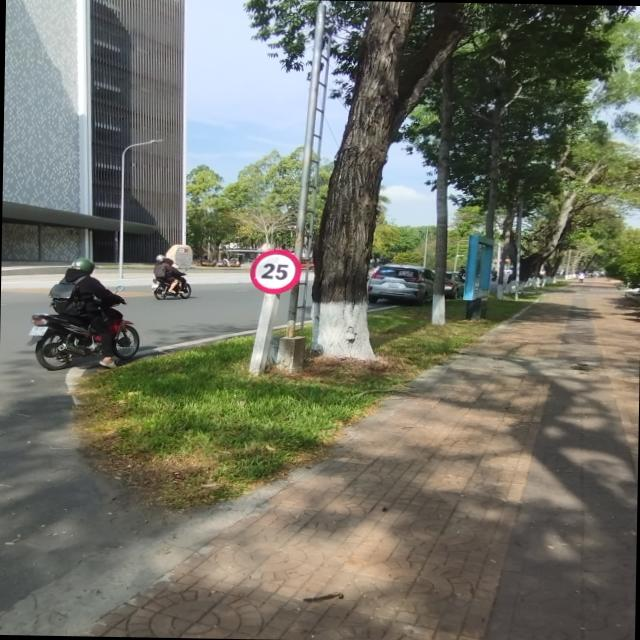Tre_Em: (249, 248, 302, 292)
